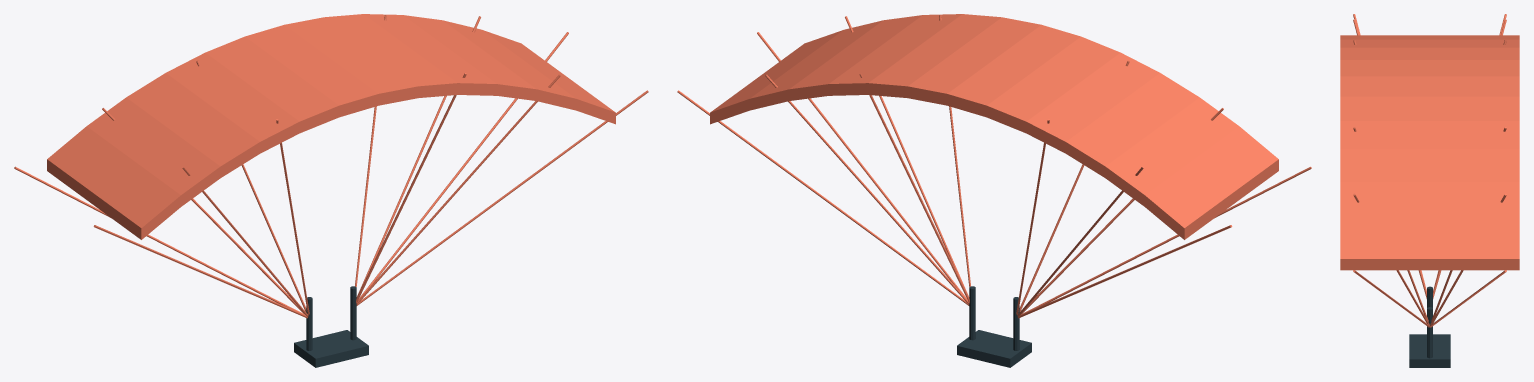
The model's file is parachute-swift.glb.
3 views of the same model, side by side, from view 1: azimuth 30°, elevation 25°; view 2: azimuth 150°, elevation 25°; view 3: azimuth 270°, elevation 25° (orthographic). The views are drawn at different scales.
Visible parts, largest first — view 1: Parachute cell 00, Parachute cell 01, Parachute cell 02, Parachute cell 03, Parachute cell 04, Parachute cell 05, Parachute cell 06, Parachute cell 07, Parachute cell 08, Parachute cell 09, Parachute cell 10, Parachute cell 11 (+9 smaller); view 2: Parachute cell 00, Parachute cell 01, Parachute cell 02, Parachute cell 03, Parachute cell 04, Parachute cell 05, Parachute cell 06, Parachute cell 07, Parachute cell 08, Parachute cell 09, Parachute cell 10, Parachute cell 11 (+9 smaller); view 3: Parachute cell 11, Parachute cell 10, Parachute cell 09, Parachute cell 08, Parachute cell 07, Parachute cell 06, Parachute cell 05, Parachute cell 04, Parachute cell 03, Parachute seat, Parachute cell 02, Harness strap.001 (+6 smaller).
Part boxes in pixels (left/top/right/bottom): Parachute cell 00: left=47, top=126, right=180, bottom=239; Parachute cell 01: left=87, top=97, right=220, bottom=206; Parachute cell 02: left=126, top=73, right=259, bottom=177; Parachute cell 03: left=166, top=52, right=299, bottom=153; Parachute cell 04: left=205, top=36, right=338, bottom=133; Parachute cell 05: left=245, top=25, right=378, bottom=117; Parachute cell 06: left=284, top=17, right=418, bottom=105; Parachute cell 07: left=324, top=14, right=457, bottom=97; Parachute cell 08: left=364, top=14, right=497, bottom=95; Parachute cell 09: left=403, top=15, right=536, bottom=100; Parachute cell 10: left=443, top=20, right=576, bottom=110; Parachute cell 11: left=483, top=30, right=615, bottom=124; Parachute cell 00: left=1145, top=126, right=1278, bottom=239; Parachute cell 01: left=1105, top=97, right=1238, bottom=206; Parachute cell 02: left=1066, top=73, right=1199, bottom=177; Parachute cell 03: left=1026, top=52, right=1159, bottom=153; Parachute cell 04: left=987, top=36, right=1120, bottom=133; Parachute cell 05: left=947, top=25, right=1080, bottom=117; Parachute cell 06: left=907, top=17, right=1041, bottom=105; Parachute cell 07: left=868, top=14, right=1001, bottom=97; Parachute cell 08: left=828, top=14, right=961, bottom=95; Parachute cell 09: left=789, top=15, right=922, bottom=100; Parachute cell 10: left=749, top=20, right=882, bottom=110; Parachute cell 11: left=710, top=30, right=842, bottom=124; Parachute cell 11: left=1340, top=218, right=1519, bottom=270; Parachute cell 10: left=1340, top=182, right=1519, bottom=218; Parachute cell 09: left=1340, top=149, right=1519, bottom=181; Parachute cell 08: left=1340, top=121, right=1519, bottom=149; Parachute cell 07: left=1340, top=96, right=1519, bottom=120; Parachute cell 06: left=1340, top=76, right=1519, bottom=96; Parachute cell 05: left=1340, top=60, right=1519, bottom=76; Parachute cell 04: left=1340, top=47, right=1519, bottom=59; Parachute cell 03: left=1340, top=39, right=1519, bottom=47; Parachute seat: left=1409, top=334, right=1450, bottom=367; Parachute cell 02: left=1340, top=35, right=1519, bottom=39; Harness strap.001: left=1427, top=307, right=1432, bottom=358.
Bounding box in the file's own units: 8.82 × 4.47 × 2.6.
